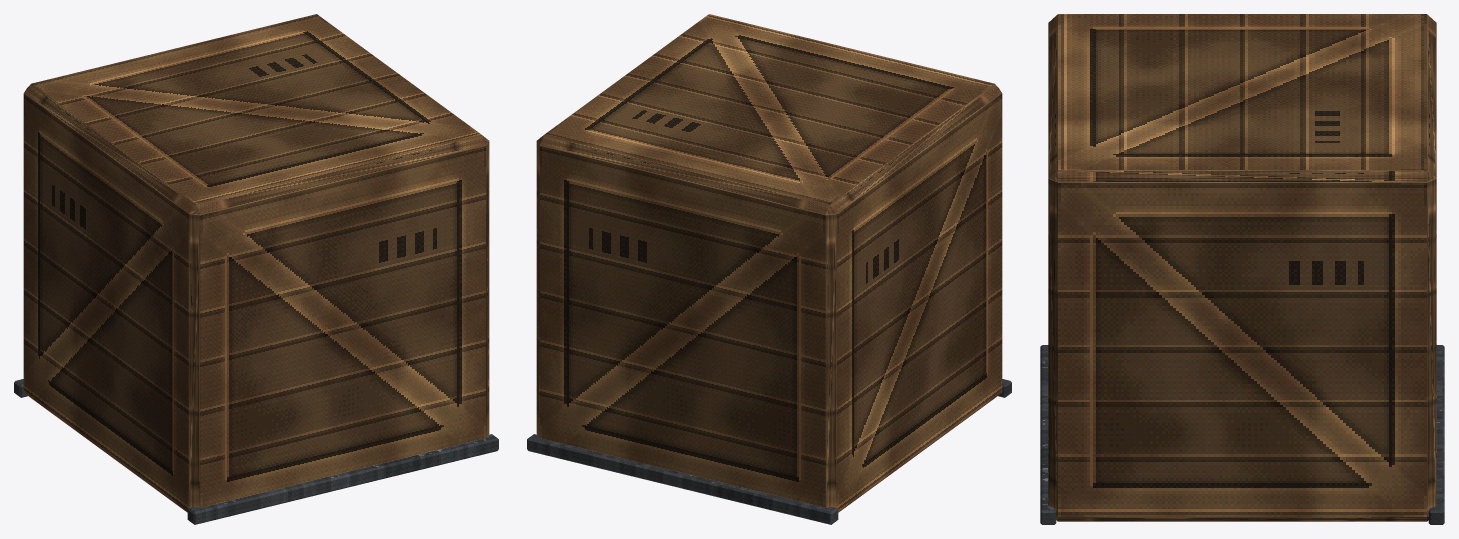
Rendered from prop_wood_crate.glb.
3 renders of one model, left to right at view 1: azimuth 30°, elevation 25°; view 2: azimuth 150°, elevation 25°; view 3: azimuth 270°, elevation 25°, orthographic. The views are drawn at different scales.
Visible parts, largest first — view 1: prop_wood_crate_mesh; view 2: prop_wood_crate_mesh; view 3: prop_wood_crate_mesh.
Boxes of the visible parts, x1=… form: prop_wood_crate_mesh: x1=14, y1=14, x2=498, y2=524; prop_wood_crate_mesh: x1=527, y1=14, x2=1011, y2=524; prop_wood_crate_mesh: x1=1040, y1=14, x2=1444, y2=524.
Bounding box in the file's own units: 1.22 × 1.2 × 1.25.
2 materials, 2 textured.
